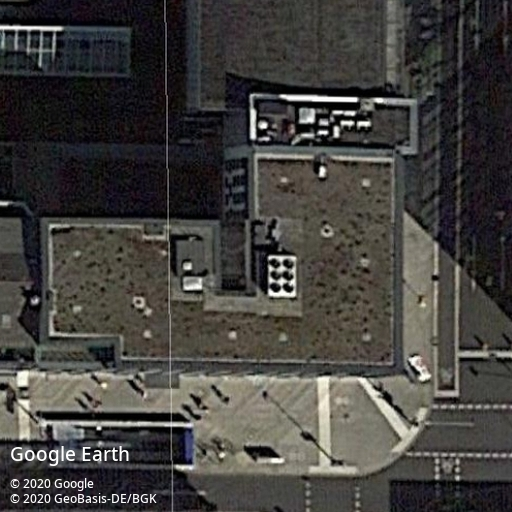Chiller: (267, 254, 298, 301)
